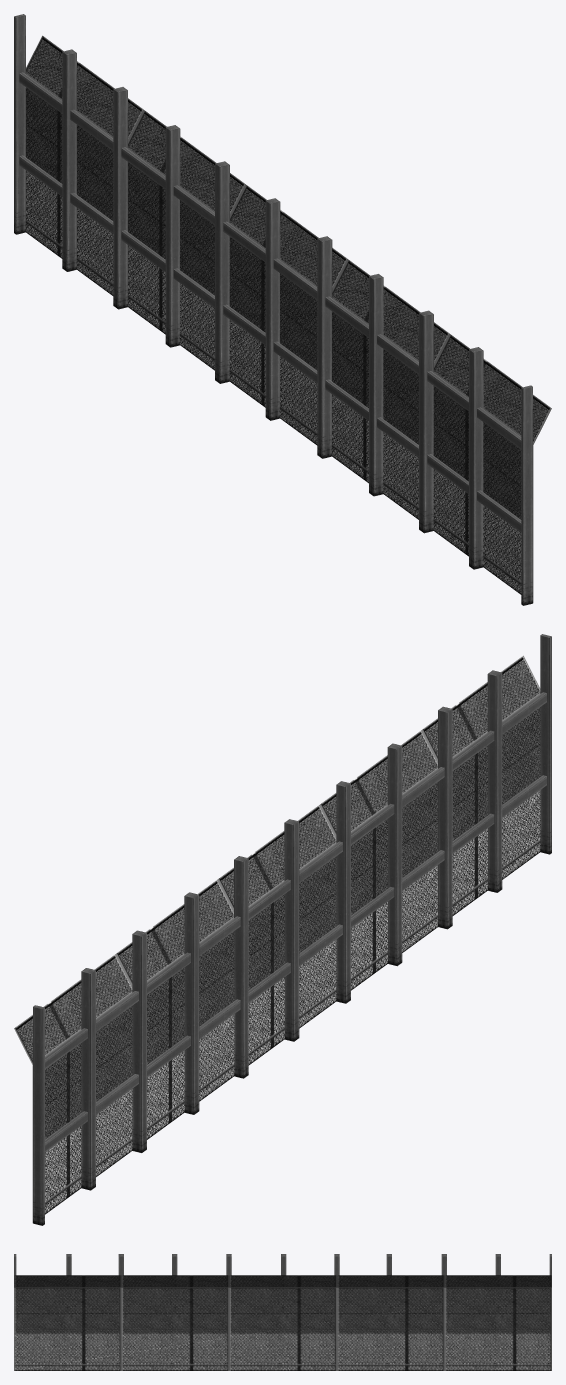
The model's file is fence_07ab.FBX.
3 renders of one model, top to bottom at view 1: azimuth 30°, elevation 25°; view 2: azimuth 150°, elevation 25°; view 3: azimuth 270°, elevation 25°, orthographic. The views are drawn at different scales.
Size of the model in its own units: 2.59 by 18.78 by 80.
